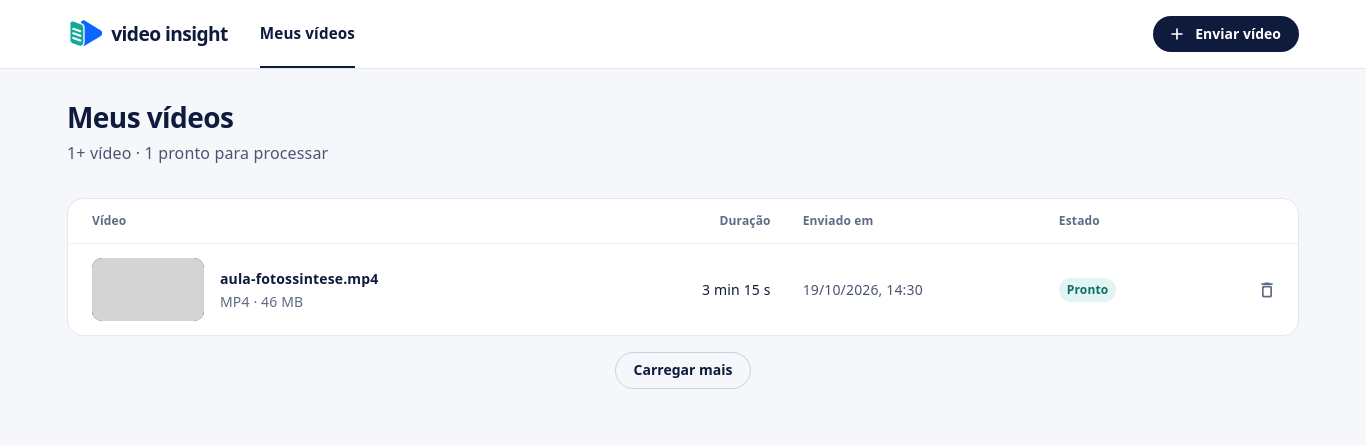
Meus vídeos › pagina pelo next_cursor
The width and height of the screenshot is (1366, 445).
Click the button "Carregar mais".
click(683, 370)  # box left=615, top=352, right=751, bottom=389
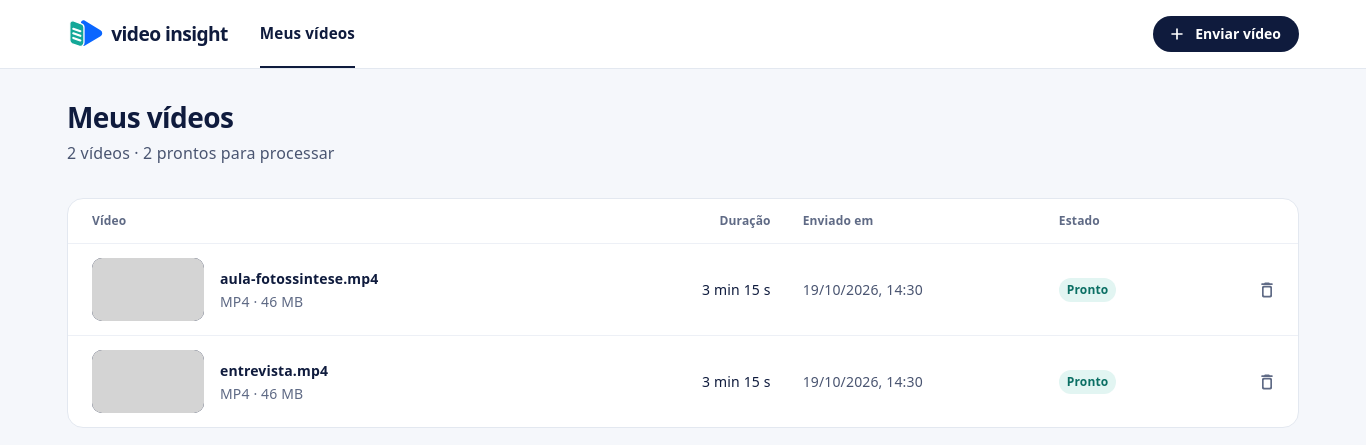
Now the link "entrevista.mp4" is shown, box left=220, top=361, right=328, bottom=380
Now the button "Carregar mais" is gone
